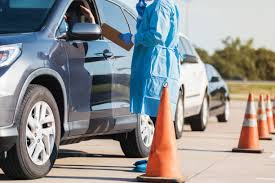car: (1, 1, 160, 179), (166, 32, 209, 132), (200, 62, 230, 121)
cone: (136, 88, 185, 181), (237, 93, 260, 149), (255, 93, 271, 138)
